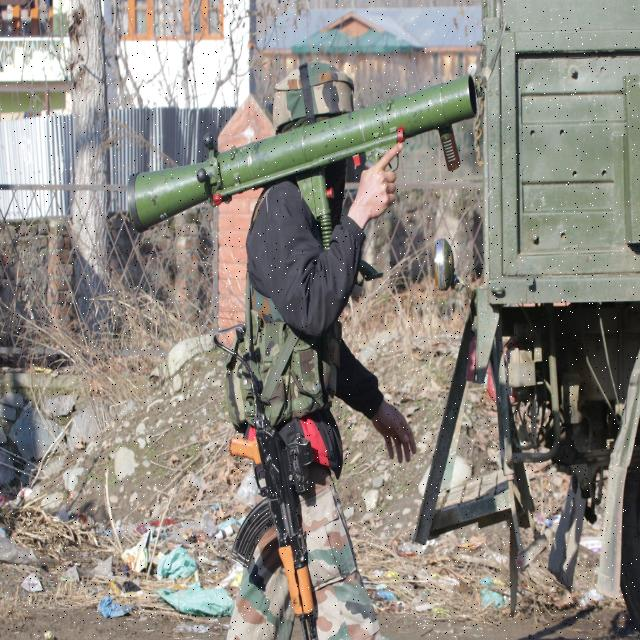bazooka: (123, 70, 483, 242)
